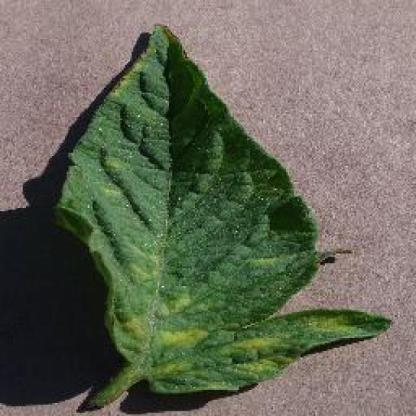Tomato_Leaf_Mold: (58, 23, 392, 391)
